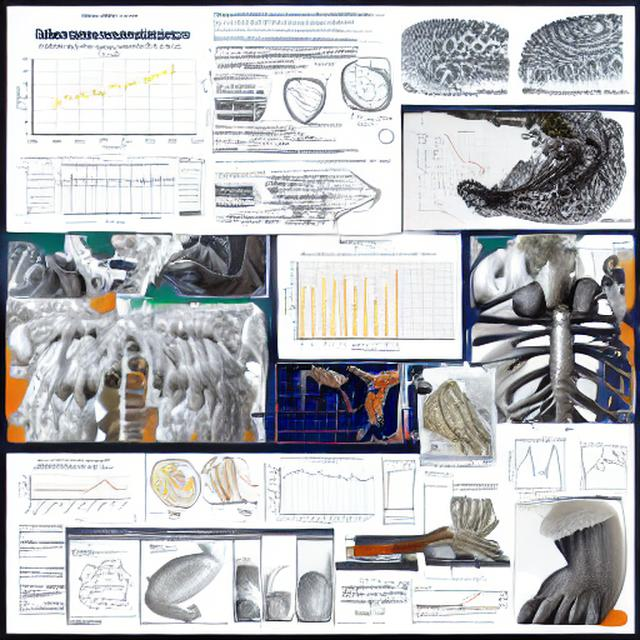Graph: (10, 41, 203, 154), (279, 249, 460, 357), (262, 455, 376, 527), (15, 455, 132, 522), (499, 435, 579, 495), (431, 127, 498, 177)
